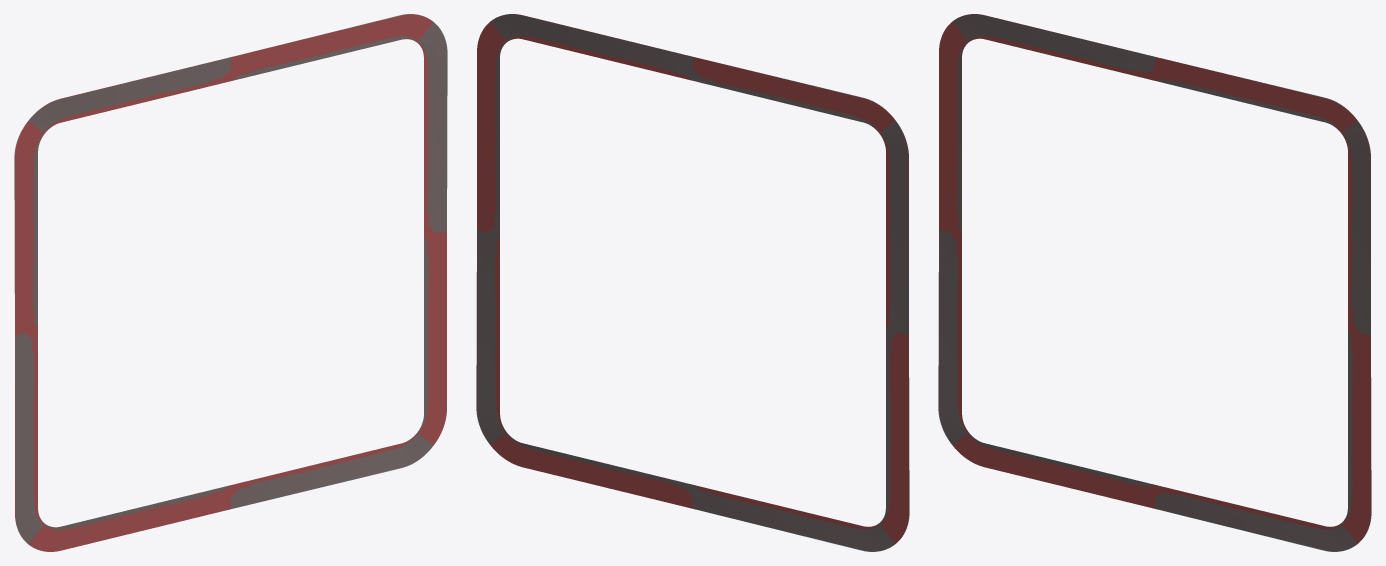
The model's file is warping-rhs-150-150-8-16-34-3546.glb.
3 views of the same model, side by side, from view 1: azimuth 30°, elevation 25°; view 2: azimuth 150°, elevation 25°; view 3: azimuth 330°, elevation 25° (orthographic).
Visible parts, largest first — view 1: undeformed cross-section, cross-section with warping; view 2: undeformed cross-section, cross-section with warping; view 3: undeformed cross-section, cross-section with warping.
Part boxes in pixels (bbox=[...]): undeformed cross-section: bbox=[15, 14, 446, 551]; cross-section with warping: bbox=[14, 14, 447, 544]; undeformed cross-section: bbox=[477, 14, 908, 550]; cross-section with warping: bbox=[476, 14, 909, 551]; undeformed cross-section: bbox=[939, 14, 1370, 550]; cross-section with warping: bbox=[938, 14, 1371, 551].
Bounding box in the file's own units: 0.15 × 0.15 × 0.000718.
